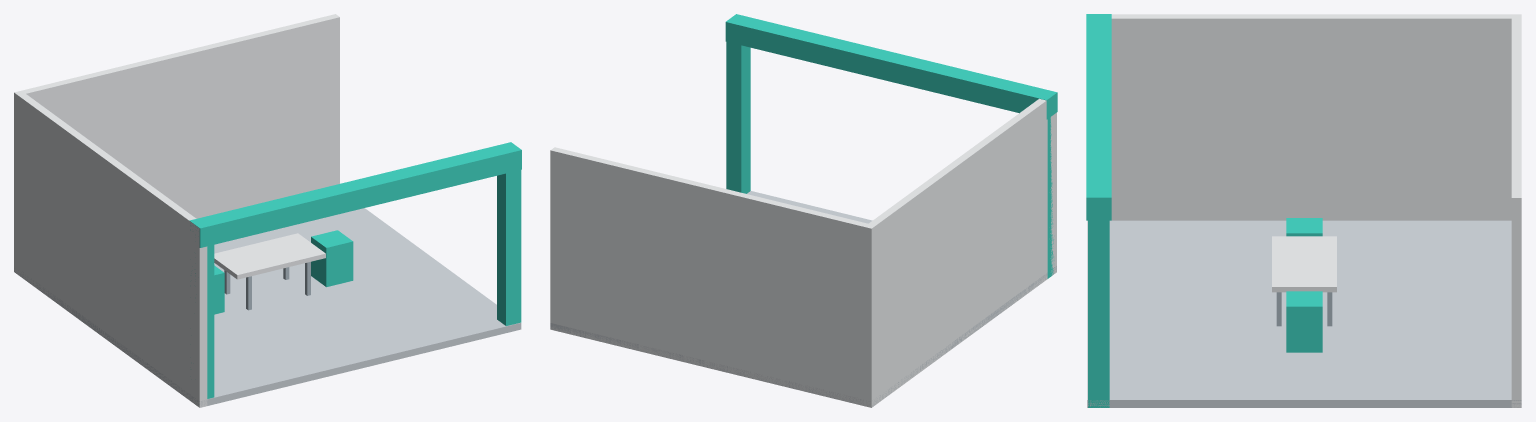
3 renders of one model, left to right at view 1: azimuth 30°, elevation 25°; view 2: azimuth 150°, elevation 25°; view 3: azimuth 270°, elevation 25°, orthographic. The views are drawn at different scales.
Visible parts, largest first — view 1: Exhibition Booth Concept; view 2: Exhibition Booth Concept; view 3: Exhibition Booth Concept.
Boxes of the visible parts, left/top/right/bottom form: Exhibition Booth Concept: left=14, top=14, right=521, bottom=407; Exhibition Booth Concept: left=550, top=14, right=1057, bottom=407; Exhibition Booth Concept: left=1086, top=14, right=1521, bottom=407.
Bounding box in the file's own units: 6 × 3.2 × 6.02.
